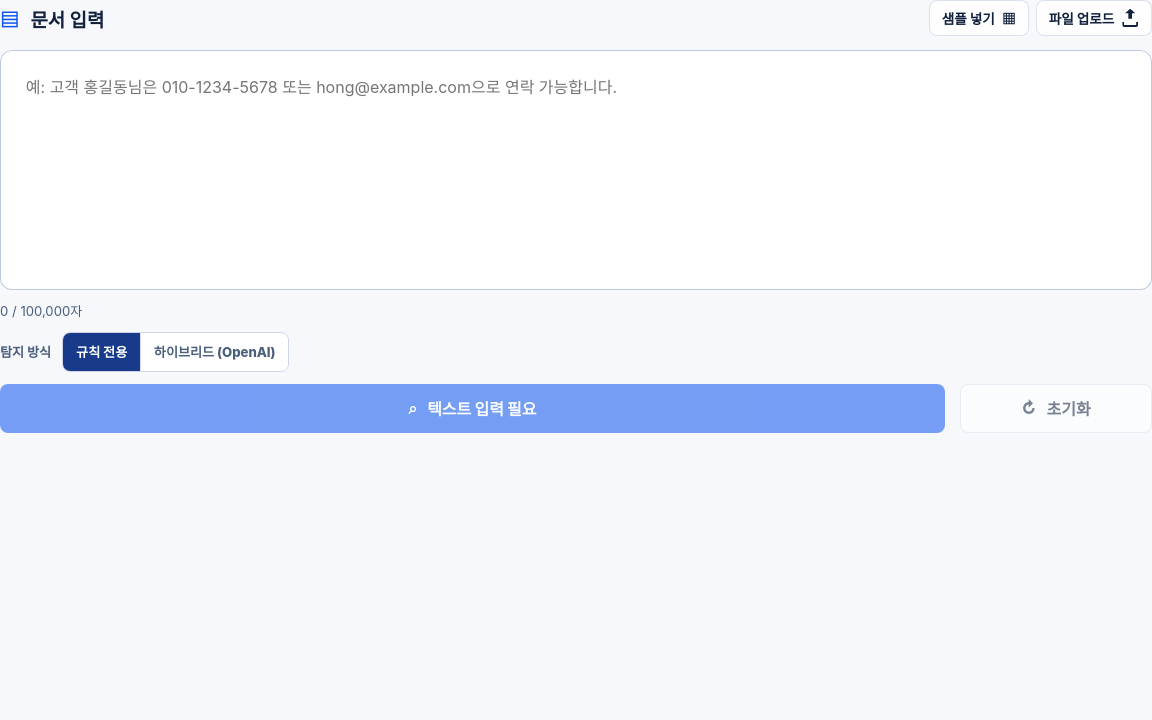
Test case: InputPanel sample picker popup (예제 갤러리가 페이지 섹션에서 팝업으로 이동, #553 후속) › fills the input and closes the popup when a sample card is picked
The width and height of the screenshot is (1152, 720).
Click the button "샘플 넣기 ▦" at (979, 18), box [929, 0, 1028, 36]
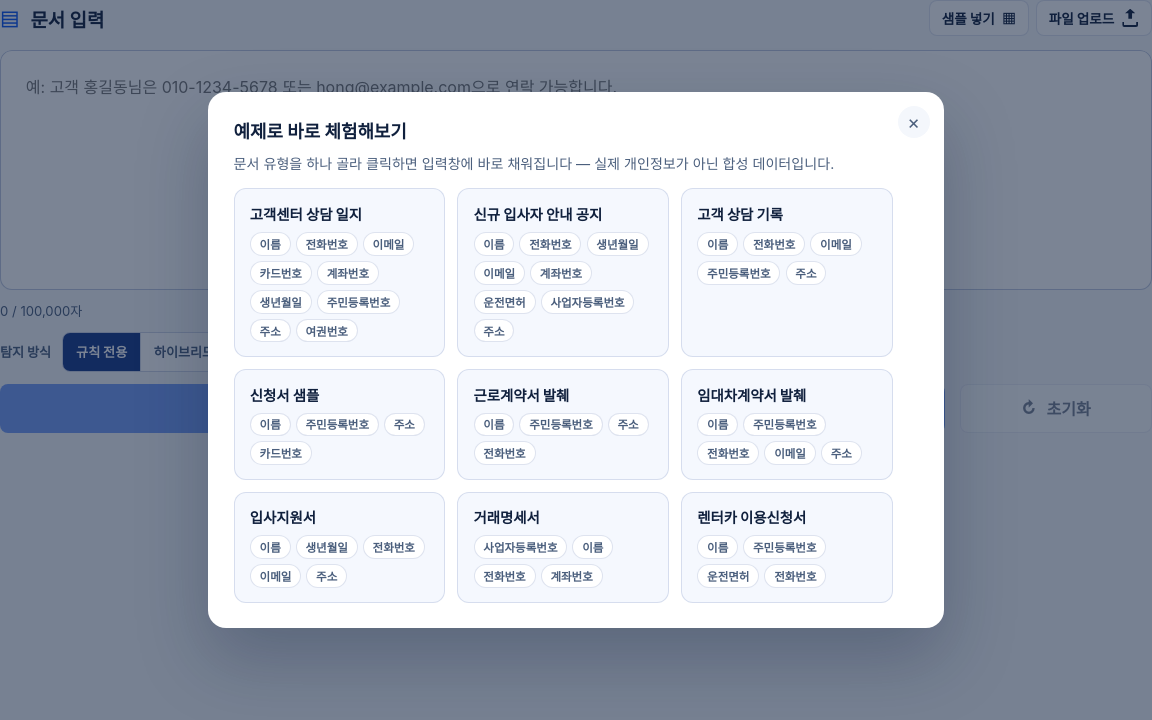
Click the button "고객 상담 기록 이름 전화번호 이메일 주민등록번호 주소" at (787, 273), box [681, 188, 893, 357]
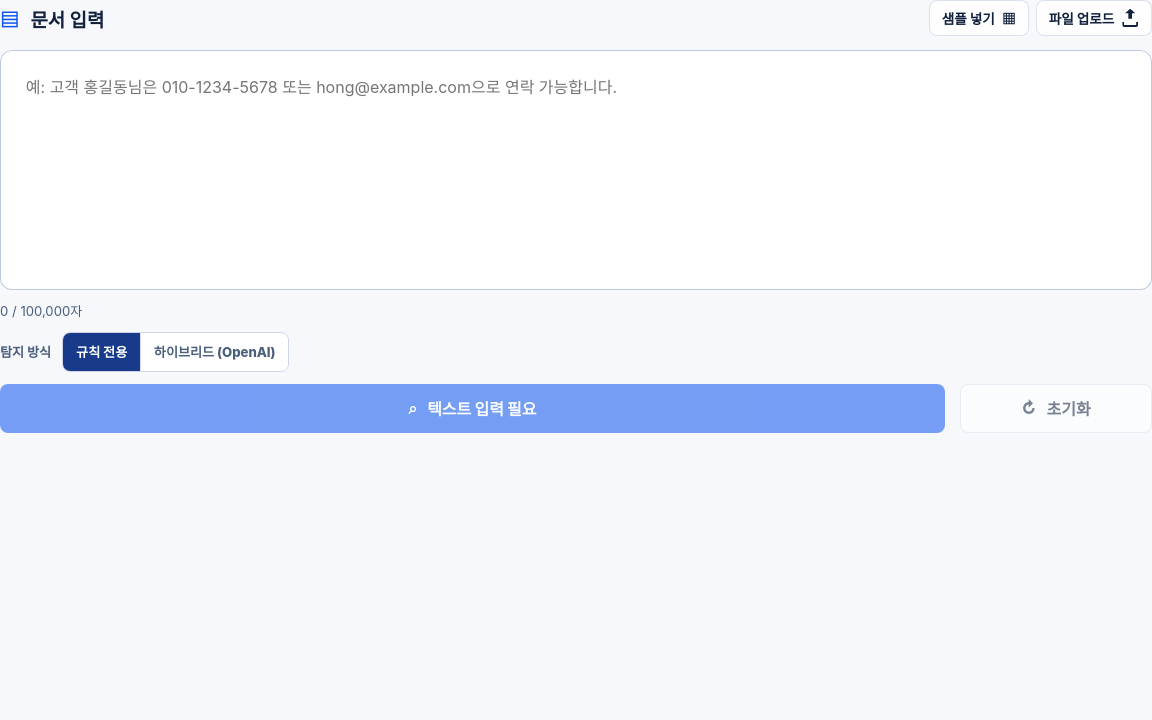
Now the dialog is gone
